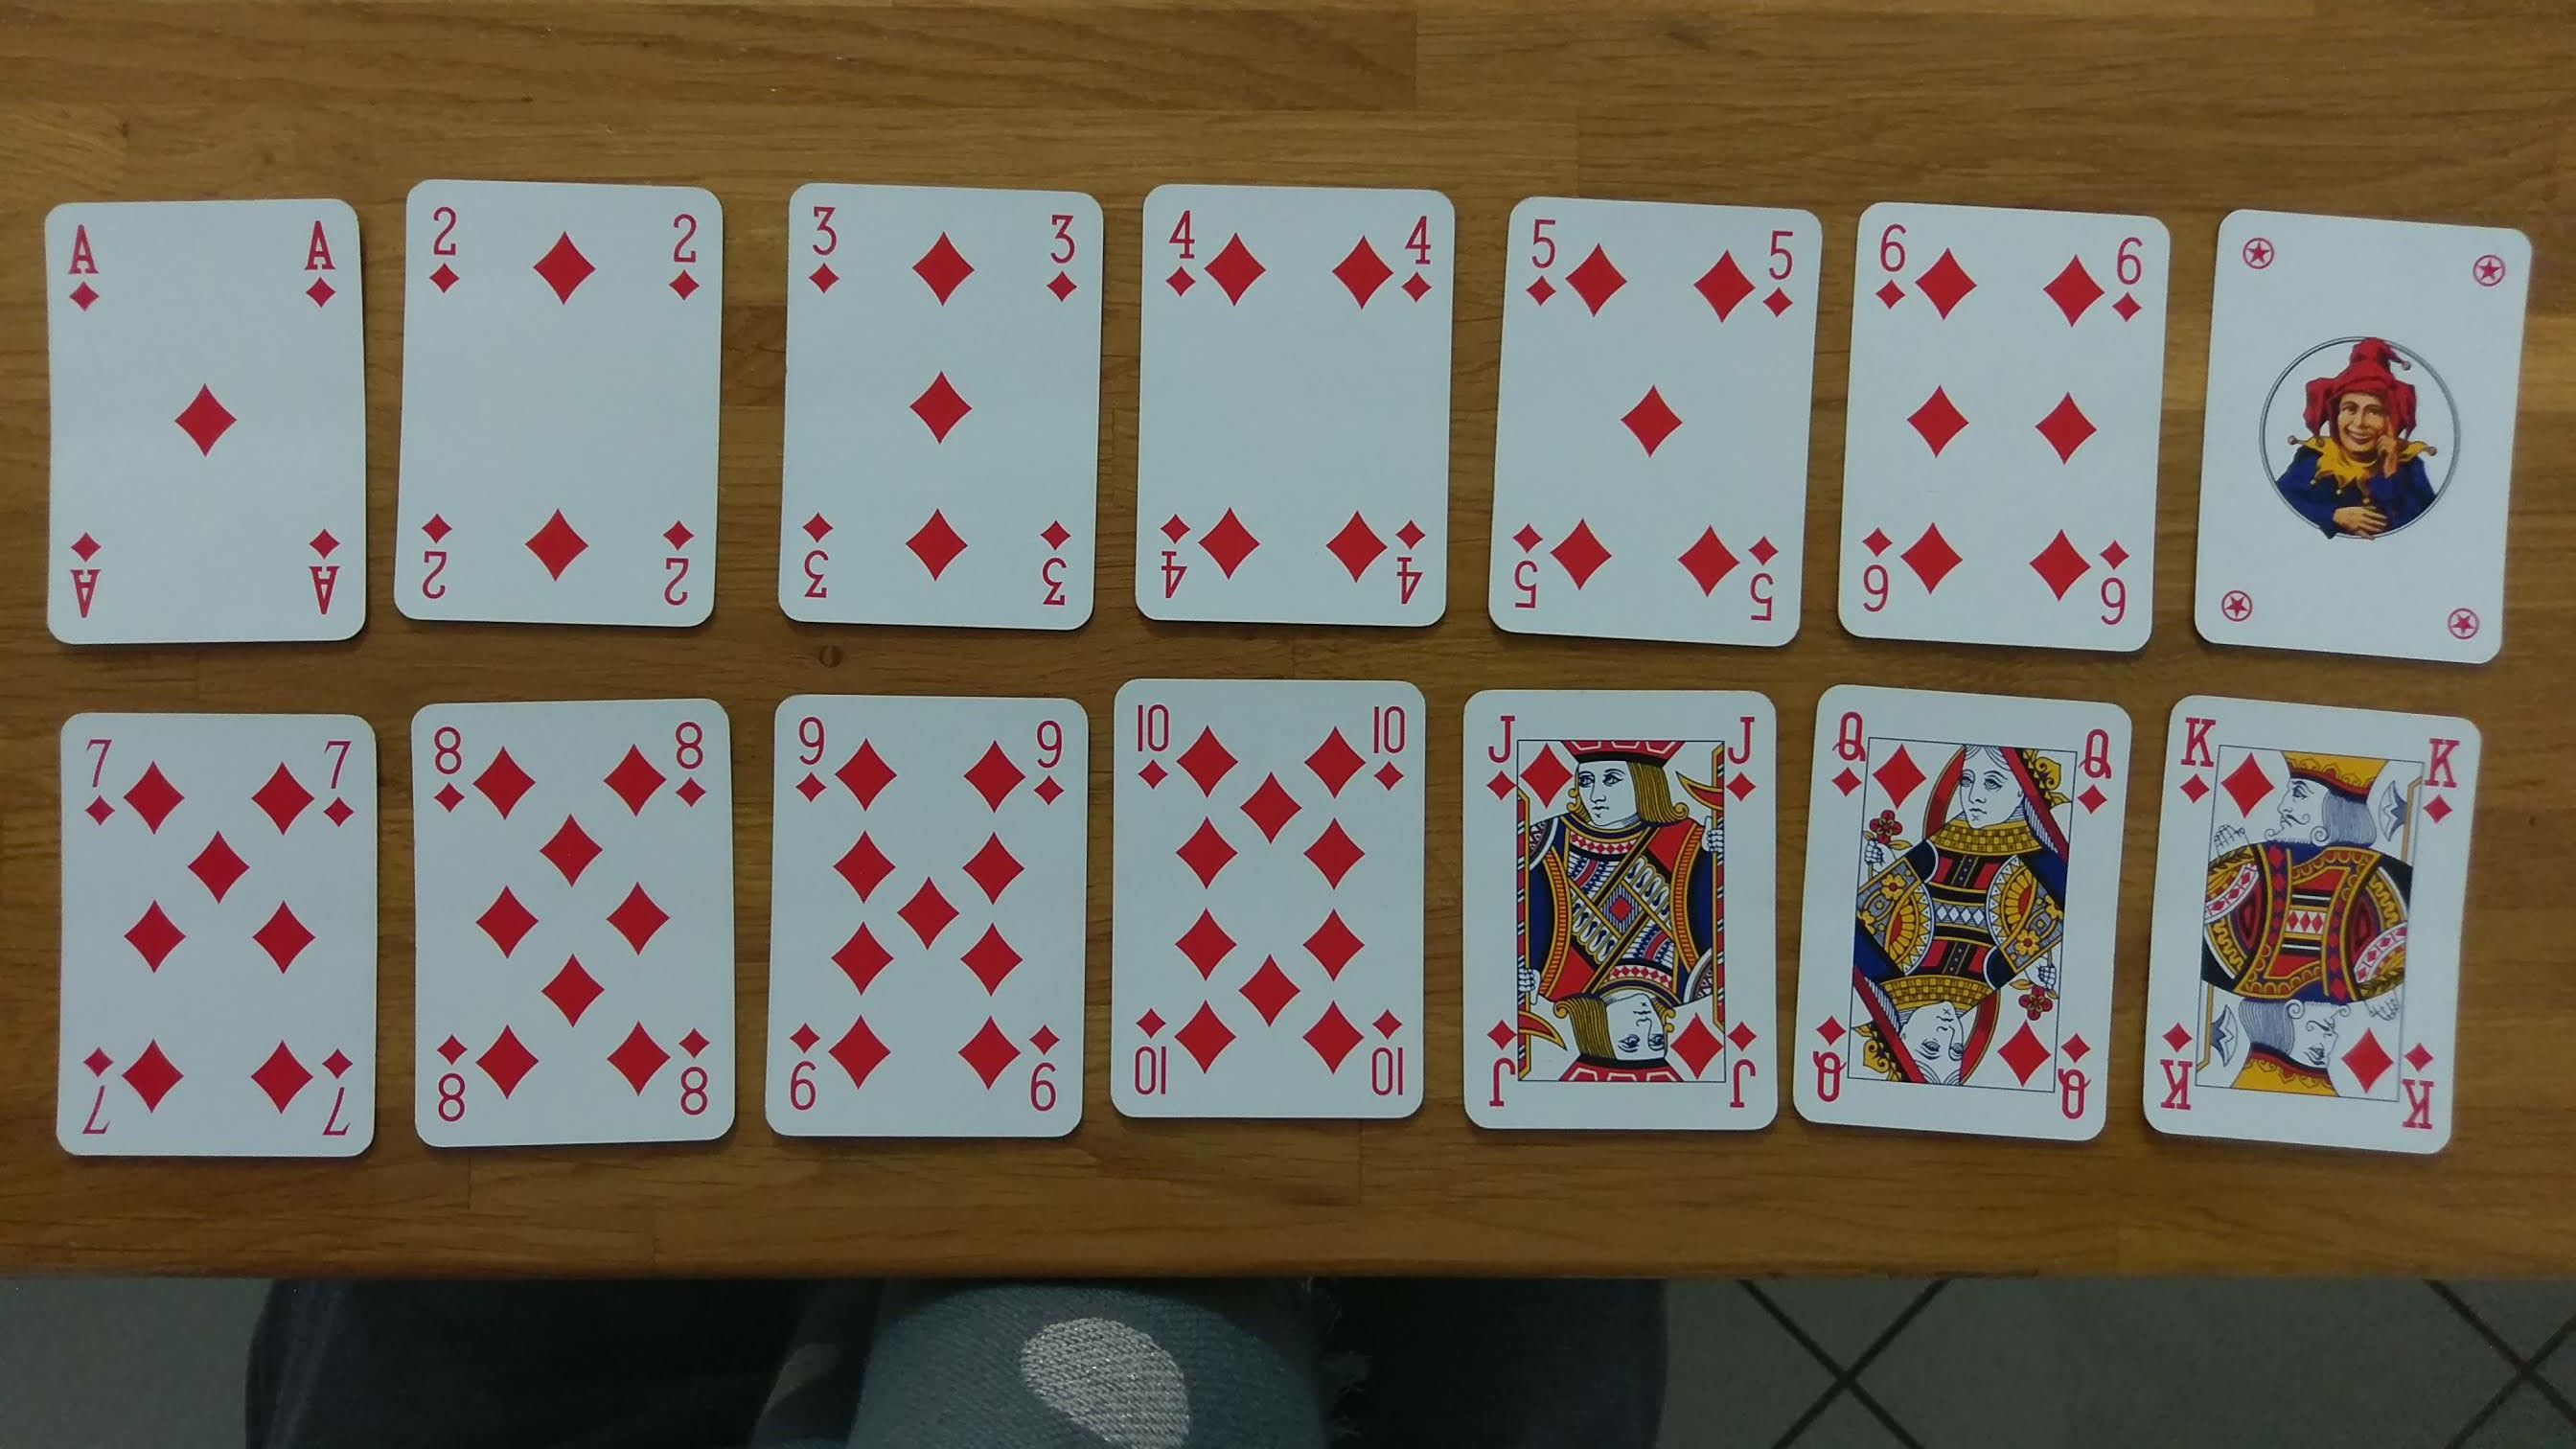10Q: (1362, 998, 1412, 1108), (1122, 694, 1175, 793), (1364, 690, 1410, 800), (1129, 1001, 1178, 1102)
1Q: (294, 513, 354, 632), (60, 515, 113, 635), (53, 214, 113, 318), (294, 209, 347, 320)
2Q: (651, 502, 706, 619), (410, 502, 464, 614), (653, 203, 709, 304), (419, 191, 467, 304)
3Q: (1033, 191, 1093, 315), (1021, 499, 1081, 617), (798, 189, 847, 303), (791, 502, 839, 612)
4Q: (1154, 200, 1203, 317), (1394, 198, 1440, 324), (1387, 501, 1430, 623), (1157, 495, 1192, 614)
5Q: (1753, 216, 1805, 333), (1522, 202, 1571, 320), (1500, 504, 1550, 619), (1741, 525, 1789, 635)
6Q: (1861, 209, 1916, 324), (2104, 223, 2151, 333), (2088, 529, 2135, 639), (1854, 520, 1895, 628)
7Q: (73, 1030, 122, 1139), (74, 727, 122, 837), (318, 729, 361, 835), (322, 1040, 361, 1143)
8Q: (428, 1026, 476, 1138), (423, 715, 471, 823), (669, 713, 717, 819), (676, 1014, 718, 1125)
9Q: (1017, 1016, 1072, 1125), (787, 709, 837, 816), (1030, 704, 1074, 819), (784, 1016, 828, 1116)
JQ: (1716, 699, 1764, 816), (1476, 702, 1523, 803), (1721, 1016, 1767, 1120), (1483, 1007, 1522, 1113)
KQ: (2396, 1037, 2450, 1143), (2155, 1005, 2201, 1115), (2419, 727, 2466, 830), (2174, 702, 2217, 816)
M1: (2235, 212, 2284, 304), (2436, 582, 2493, 656), (2215, 566, 2268, 642), (2463, 235, 2516, 306)
QQ: (2052, 1021, 2100, 1134), (1822, 701, 1874, 803), (1810, 991, 1851, 1115), (2074, 717, 2114, 830)
